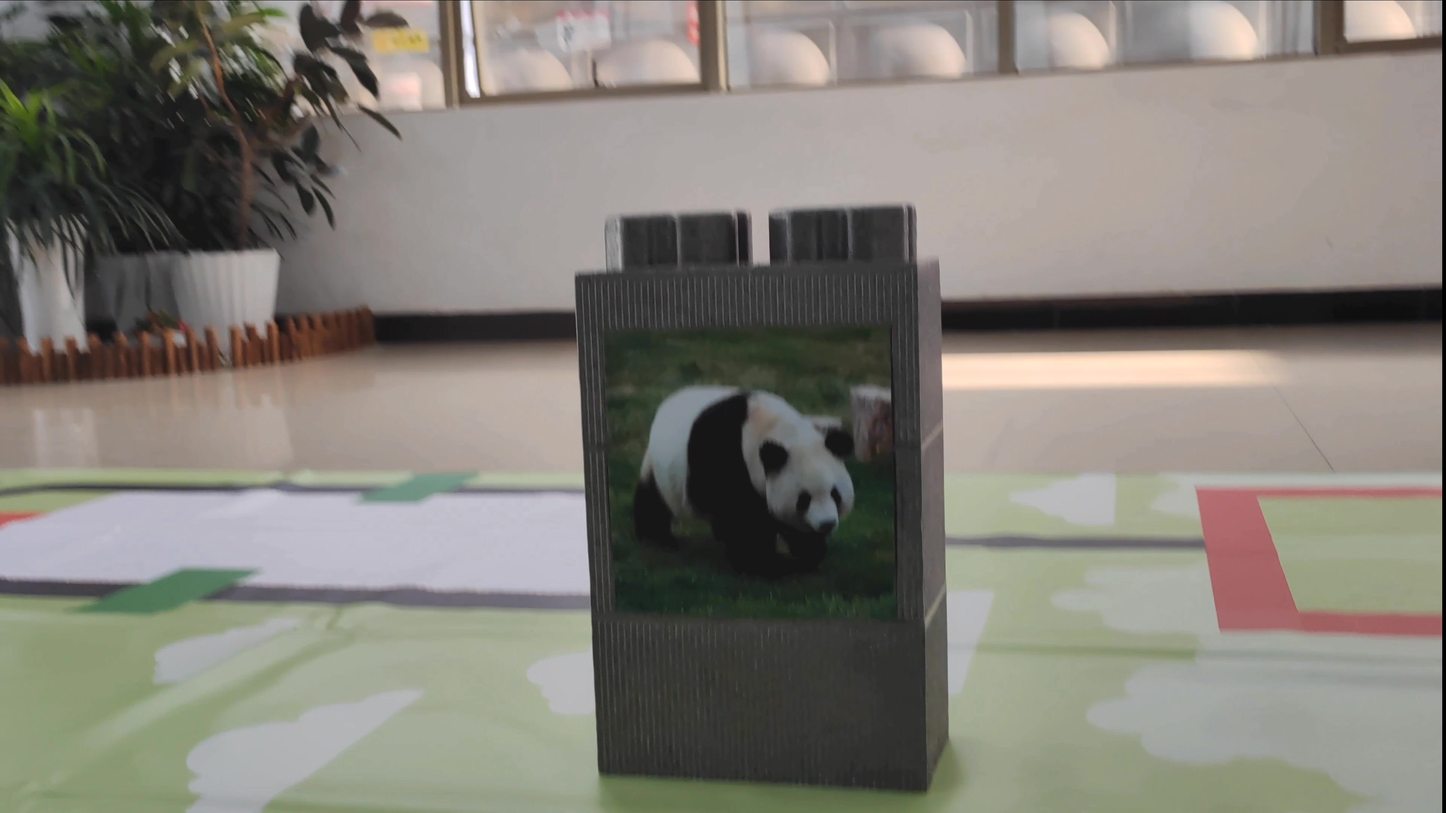panda: (594, 374, 880, 598)
